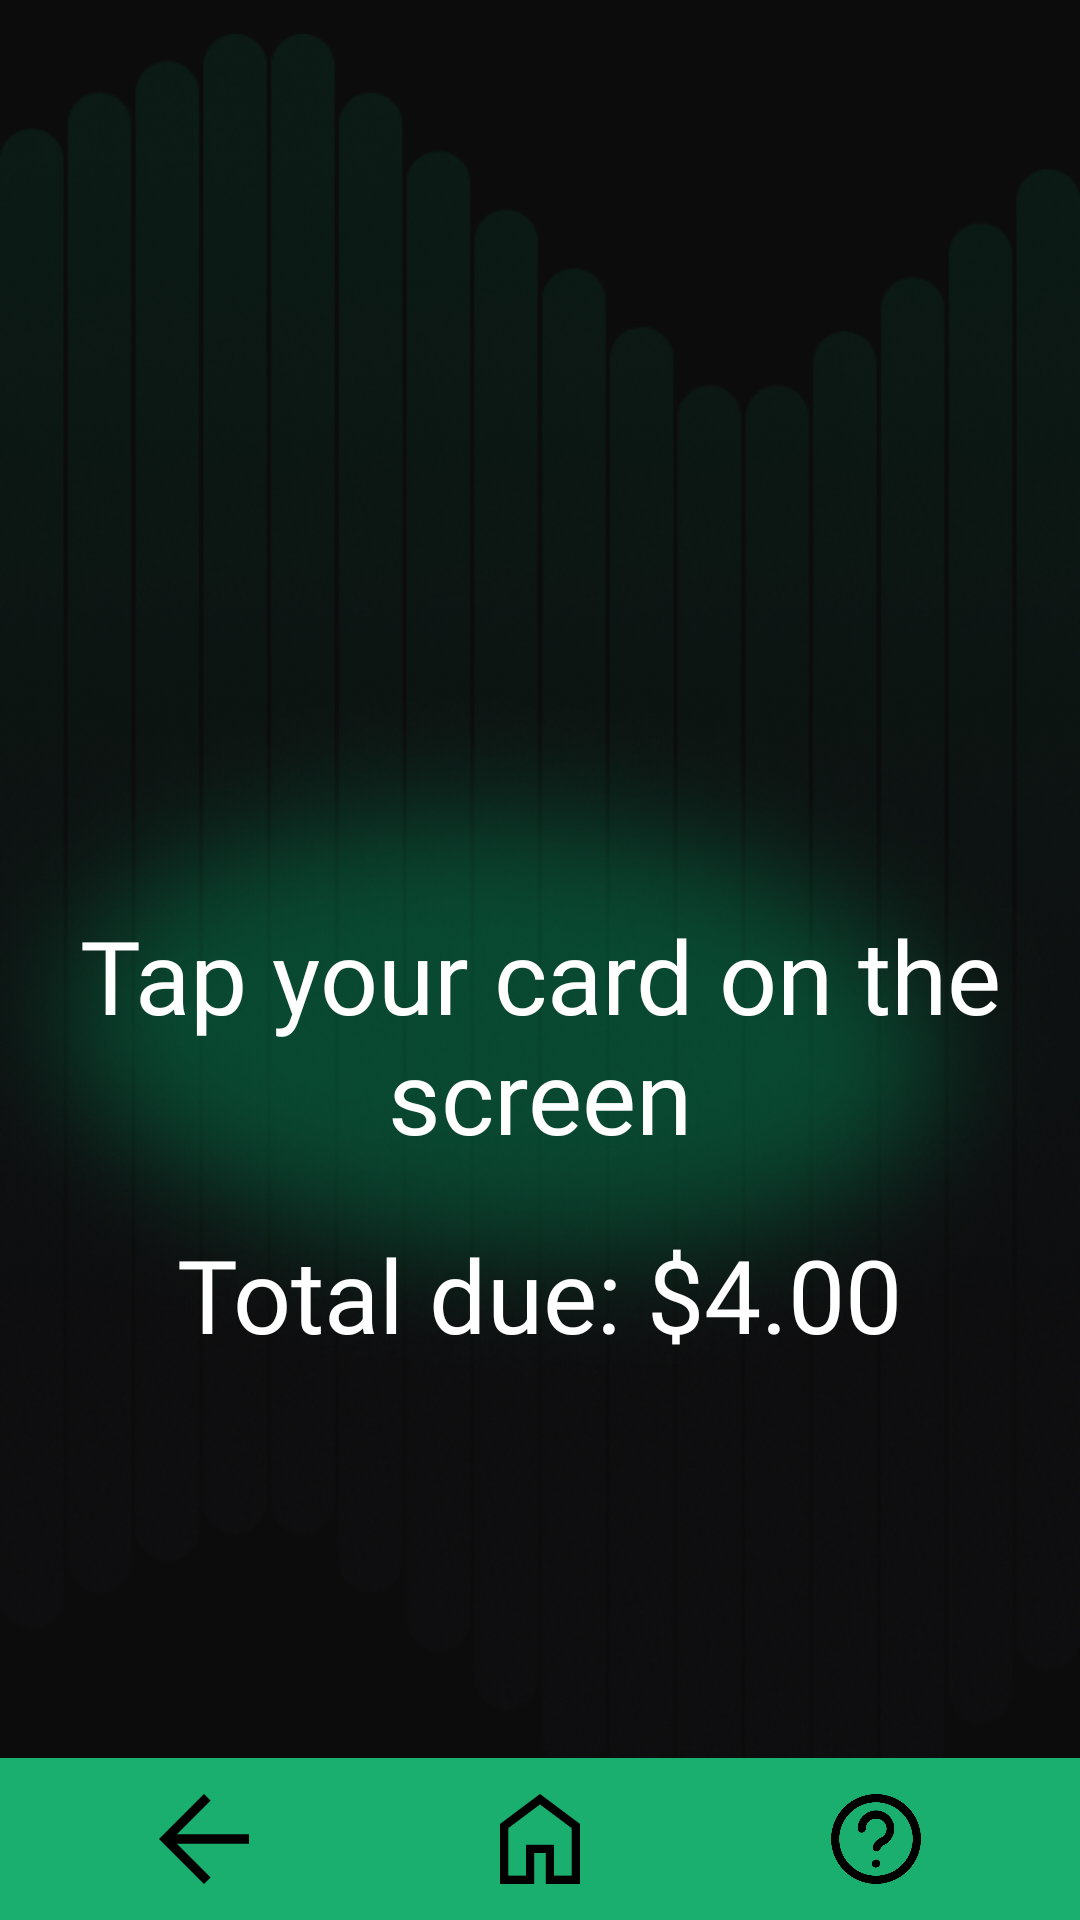

Locate icon controls on the screen. Image size 1080w x 1920h, boxes as (left=x1, top=y1, right=x2, bottom=y2).
Back Button: (left=159, top=1794, right=249, bottom=1884)
Home Button: (left=500, top=1794, right=580, bottom=1884)
